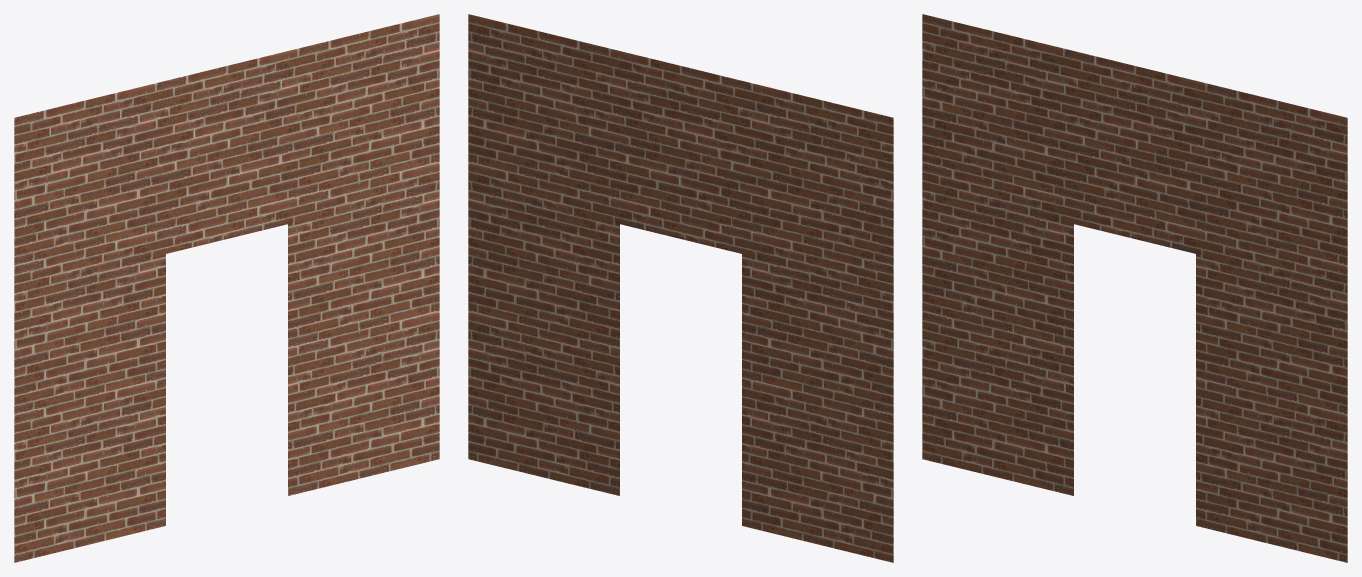
Rendered from wallpaper_004.fbx.
3 views of the same model, side by side, from view 1: azimuth 30°, elevation 25°; view 2: azimuth 150°, elevation 25°; view 3: azimuth 330°, elevation 25° (orthographic).
Parts seen in each view (by area): view 1: wallpaper_004; view 2: wallpaper_004; view 3: wallpaper_004.
Part boxes in pixels (x1=…): wallpaper_004: x1=14, y1=14, x2=439, y2=562; wallpaper_004: x1=468, y1=14, x2=893, y2=562; wallpaper_004: x1=922, y1=14, x2=1347, y2=562.
Bounding box in the file's own units: 400 × 4.77e-05 × 400.
